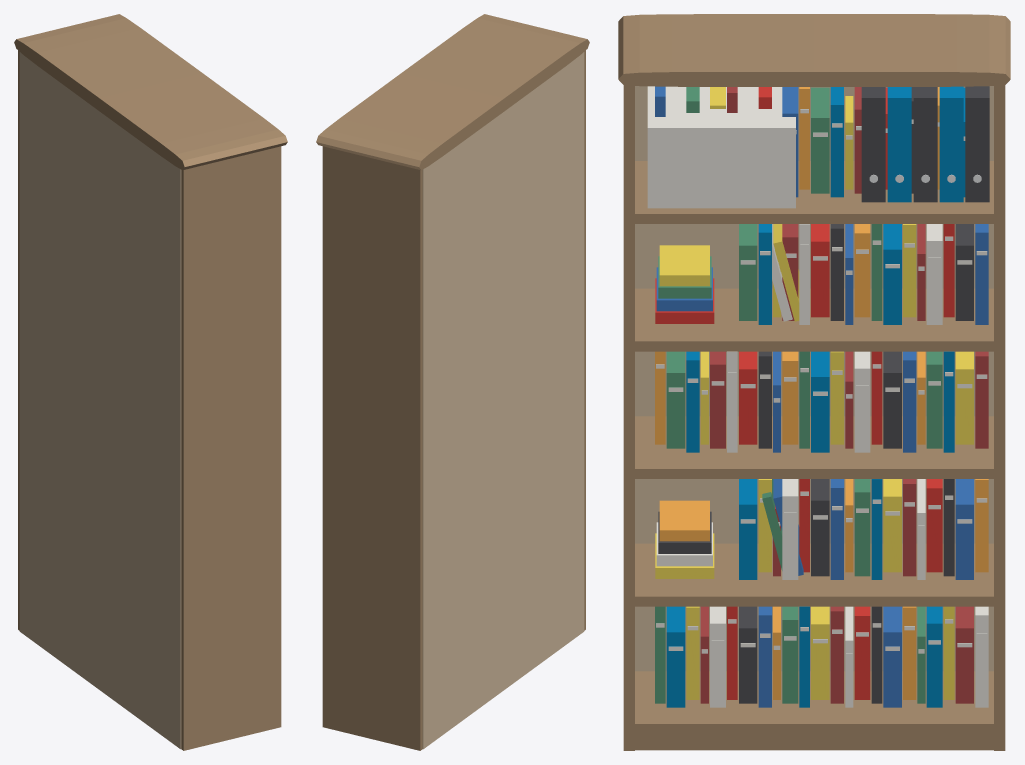
The model's file is SM_Prop_Bookshelf.fbx.
3 renders of one model, left to right at view 1: azimuth 30°, elevation 25°; view 2: azimuth 150°, elevation 25°; view 3: azimuth 270°, elevation 25°, orthographic. The views are drawn at different scales.
Visible parts, largest first — view 1: SM_Prop_Bookshelf; view 2: SM_Prop_Bookshelf; view 3: SM_Prop_Bookshelf.
Part boxes in pixels (left/top/right/bottom): SM_Prop_Bookshelf: left=14, top=14, right=287, bottom=750; SM_Prop_Bookshelf: left=316, top=14, right=589, bottom=750; SM_Prop_Bookshelf: left=618, top=14, right=1010, bottom=750.
Bounding box in the file's own units: 1.06 × 0.37 × 2.03.
